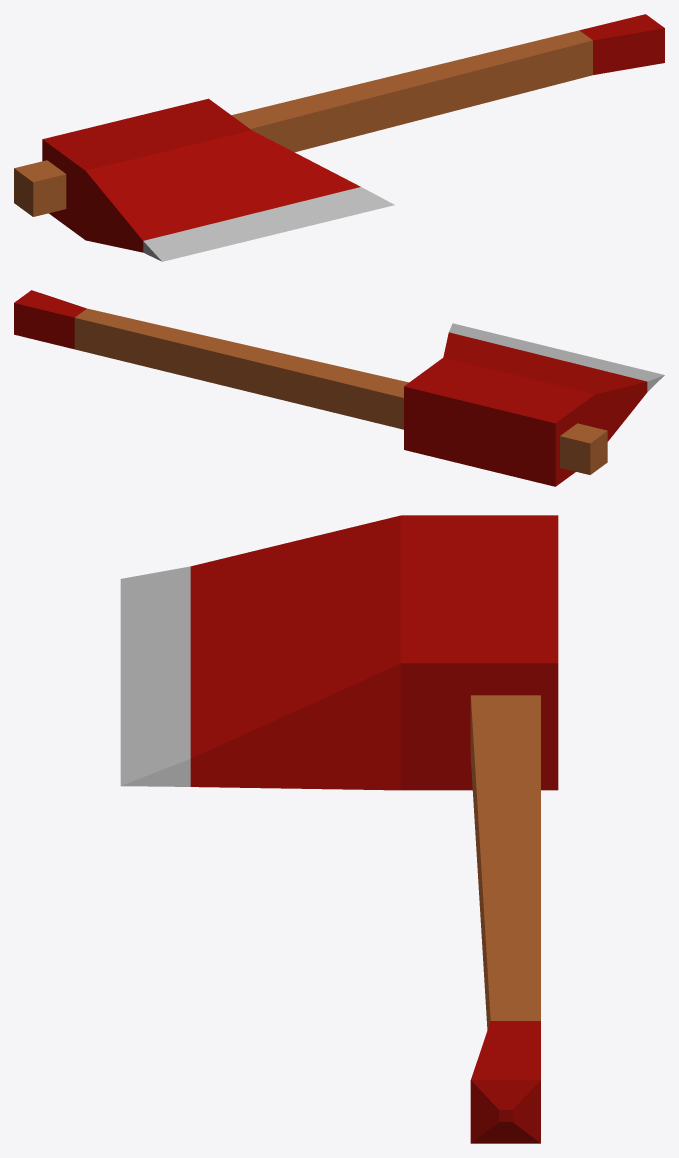
File: Hacha.fbx
The picture shows the model from 3 angles, top to bottom: view 1: azimuth 30°, elevation 25°; view 2: azimuth 150°, elevation 25°; view 3: azimuth 270°, elevation 25°; orthographic projection. The views are drawn at different scales.
Visible parts, largest first — view 1: Cube; view 2: Cube; view 3: Cube.
Boxes of the visible parts, x1,y1,x2,y2 form: Cube: [14, 14, 664, 261]; Cube: [14, 290, 664, 486]; Cube: [120, 515, 558, 1143].
Size of the model in its own units: 459 by 48 by 150.
